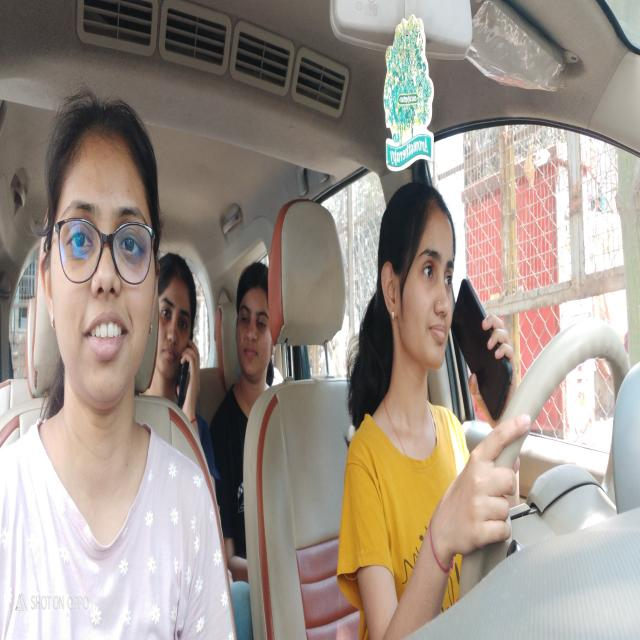mobile: (453, 283, 515, 437)
person: (41, 87, 165, 413), (374, 182, 455, 380), (158, 258, 200, 391), (235, 269, 278, 389)
